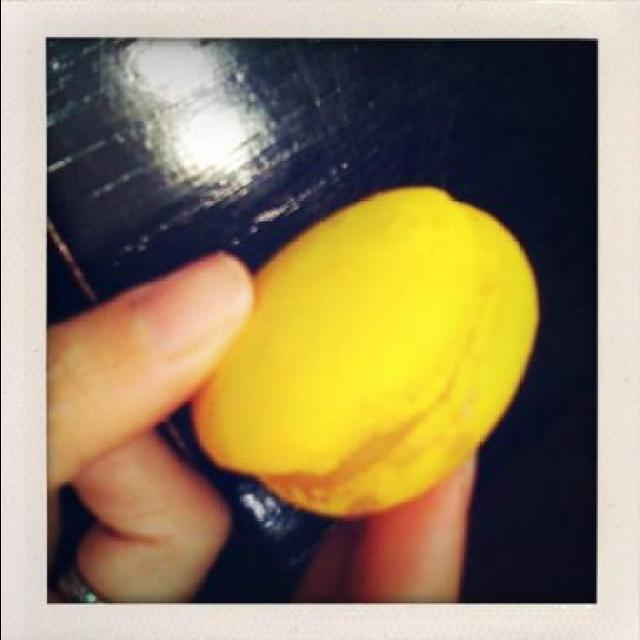Macaron: (189, 178, 549, 522)
